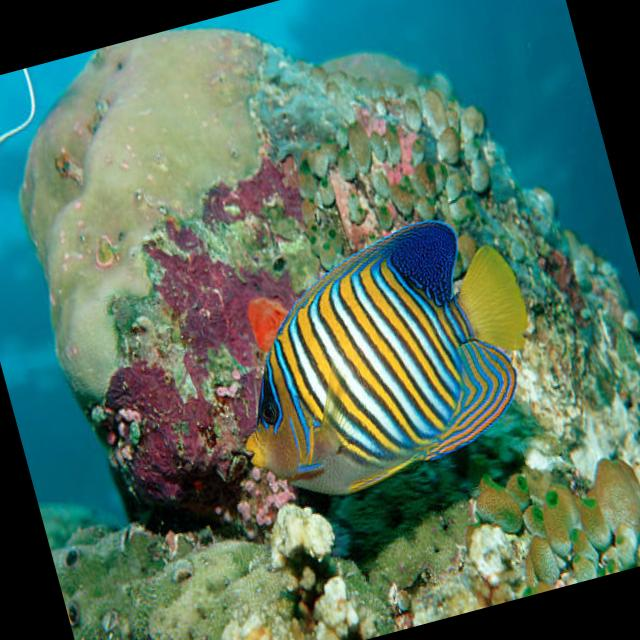AngelFish: (203, 200, 562, 516)
